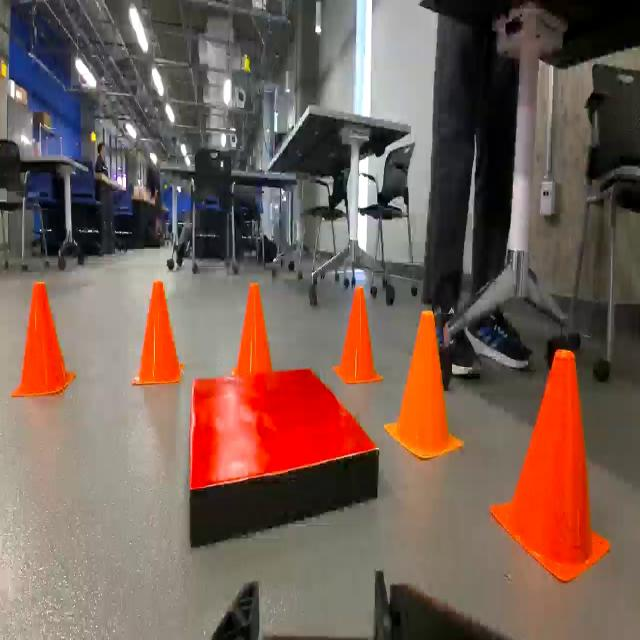cone: (492, 347, 610, 584), (384, 312, 463, 461), (11, 281, 76, 405), (134, 278, 186, 392), (336, 290, 381, 388), (236, 285, 274, 372)
red: (191, 372, 379, 549)
